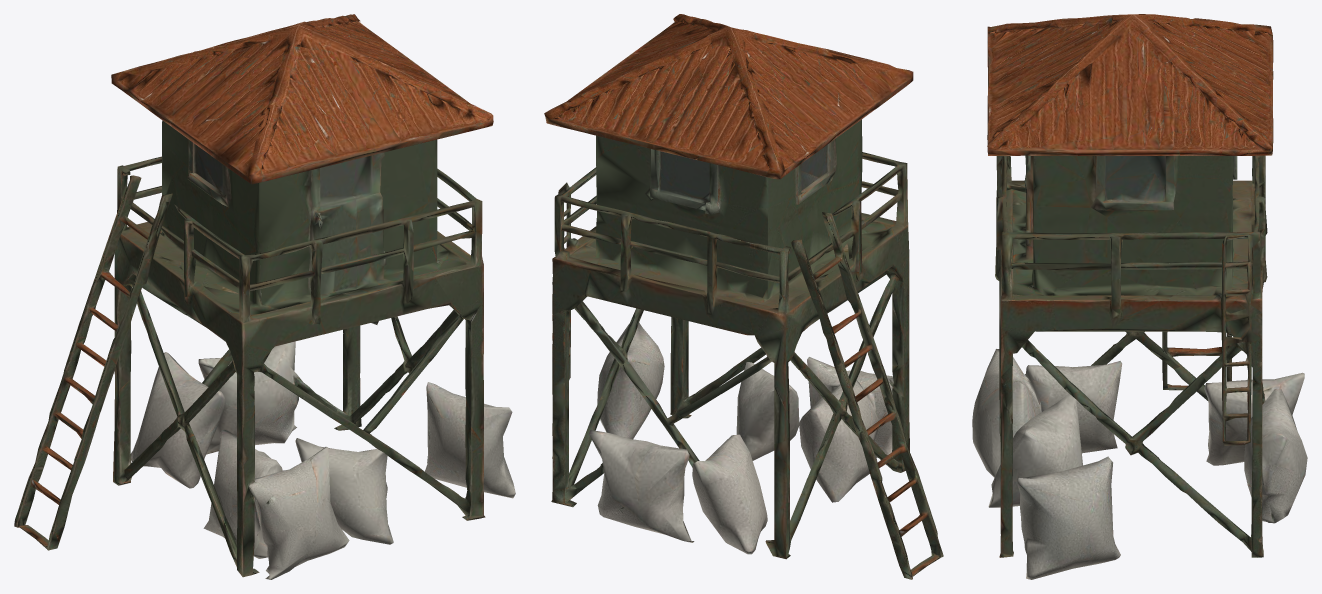
The model's file is gozetleme_kulesi.glb.
The picture shows the model from 3 angles, left to right: view 1: azimuth 30°, elevation 25°; view 2: azimuth 150°, elevation 25°; view 3: azimuth 270°, elevation 25°; orthographic projection. The views are drawn at different scales.
Parts seen in each view (by area): view 1: kok; view 2: kok; view 3: kok.
Boxes of the visible parts, x1,y1,x2,y2 form: kok: (14, 14, 515, 579); kok: (544, 14, 943, 579); kok: (972, 14, 1307, 579).
Size of the model in its own units: 5.29 by 6 by 3.73.
1 material, 1 textured.
